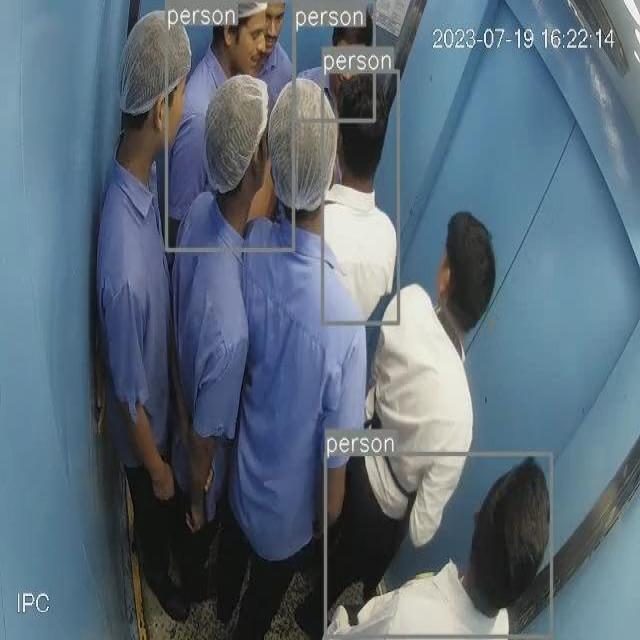person: (109, 12, 191, 625), (327, 451, 553, 638), (372, 212, 512, 453), (165, 7, 294, 252), (271, 68, 359, 380), (200, 56, 271, 359), (325, 70, 399, 318), (295, 7, 373, 120)
